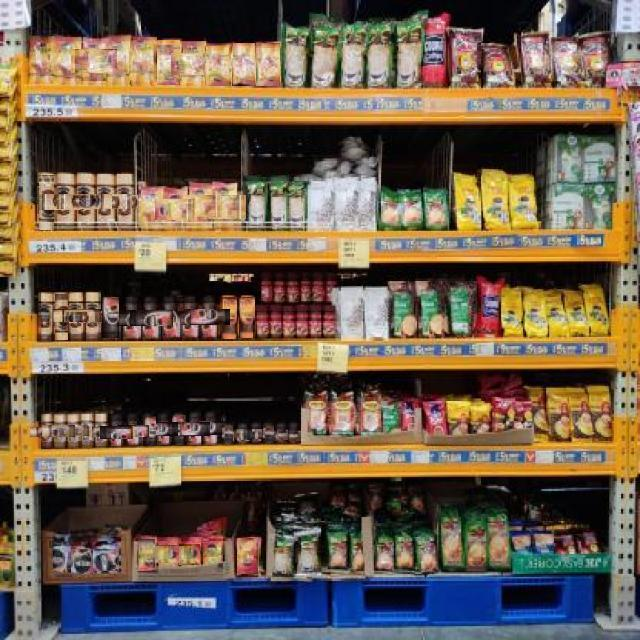Coffee: (55, 37, 80, 86), (30, 37, 55, 85), (107, 37, 131, 86), (131, 38, 155, 85), (255, 42, 280, 86), (138, 186, 164, 228), (70, 50, 117, 73), (156, 40, 180, 85), (231, 42, 255, 86), (204, 194, 246, 219), (205, 45, 229, 86), (178, 195, 222, 217), (172, 53, 215, 75), (38, 174, 54, 230), (37, 194, 93, 210), (78, 193, 132, 209), (156, 198, 194, 220), (57, 194, 112, 209), (236, 537, 258, 574), (163, 295, 181, 339), (96, 195, 152, 209), (220, 296, 237, 339), (170, 308, 213, 325), (238, 296, 255, 338), (102, 296, 119, 338), (112, 309, 153, 326), (53, 308, 101, 322), (130, 310, 172, 326), (38, 293, 52, 340), (54, 293, 68, 340), (189, 310, 230, 325), (69, 310, 116, 323), (92, 549, 119, 571), (71, 548, 93, 574), (138, 539, 155, 571), (100, 425, 134, 439), (171, 414, 186, 445), (203, 542, 223, 565), (154, 546, 180, 563), (52, 546, 69, 572), (179, 544, 200, 565), (142, 415, 156, 446), (180, 422, 210, 436), (148, 422, 178, 436), (195, 422, 226, 435), (118, 424, 149, 437), (43, 425, 75, 437), (85, 426, 118, 437), (56, 425, 89, 436), (30, 426, 63, 437), (81, 415, 92, 447), (289, 425, 300, 445), (262, 425, 274, 443), (233, 429, 252, 440), (222, 425, 233, 443), (277, 426, 288, 443), (246, 429, 264, 439)
